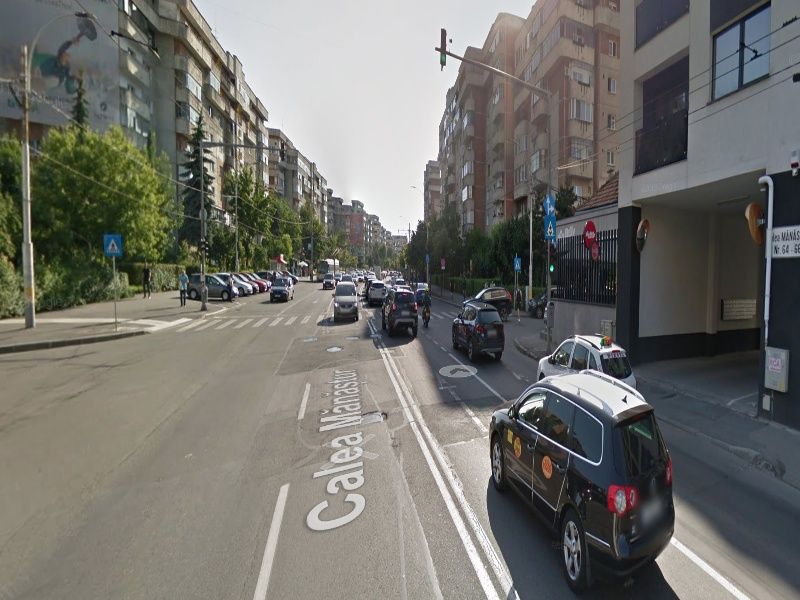crosswalk: (174, 305, 474, 336)
crosswalk_sign: (101, 232, 123, 260), (542, 217, 559, 240)
pedestrian: (175, 267, 191, 310)
semaphore: (438, 26, 450, 72)
